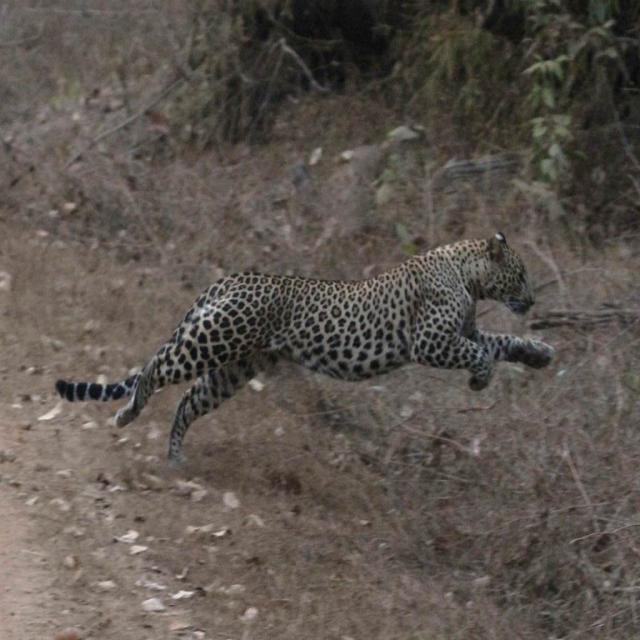Leopard: (55, 232, 554, 460)
